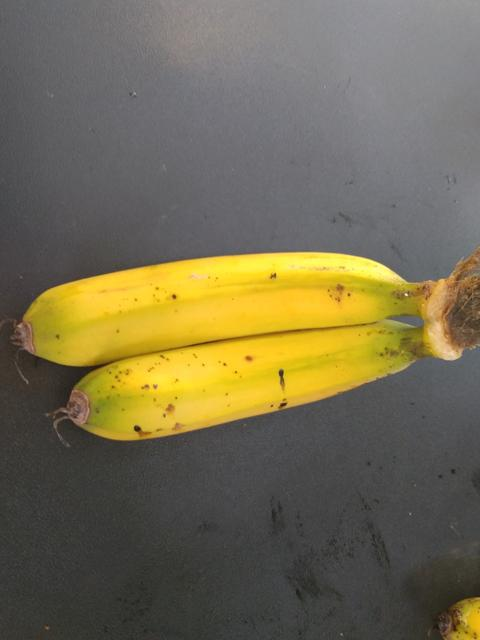freshripe: (19, 237, 419, 357)
ripe: (62, 314, 419, 467)
